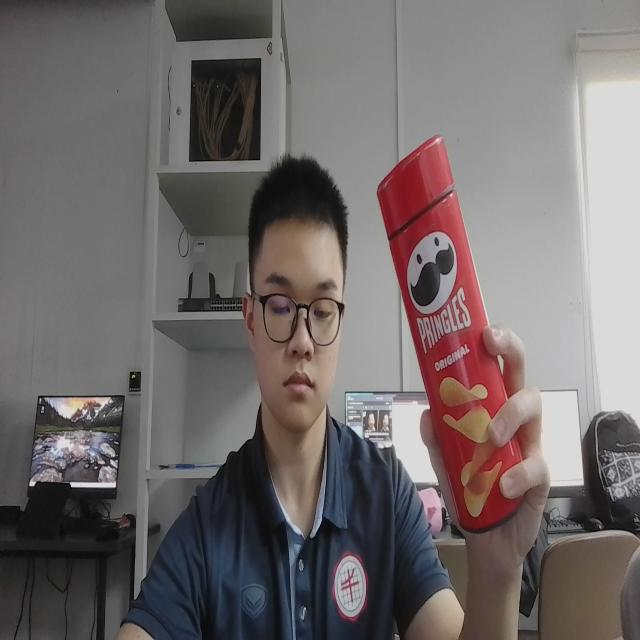water bottle: (374, 130, 529, 538)
